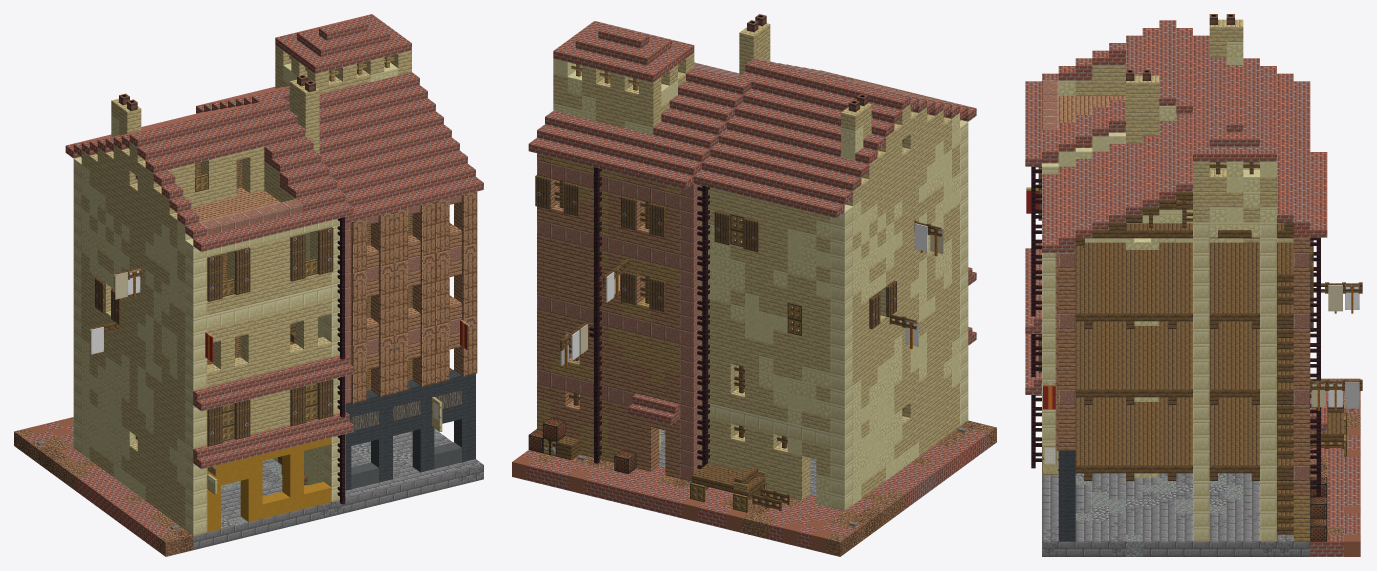
The model's file is nha-07.fbx.
The picture shows the model from 3 angles, left to right: view 1: azimuth 30°, elevation 25°; view 2: azimuth 150°, elevation 25°; view 3: azimuth 270°, elevation 25°; orthographic projection. The views are drawn at different scales.
Parts seen in each view (by area): view 1: nha-07; view 2: nha-07; view 3: nha-07.
Part boxes in pixels (bbox=[...]): nha-07: bbox=[14, 14, 483, 556]; nha-07: bbox=[512, 14, 996, 556]; nha-07: bbox=[1025, 14, 1362, 556].
Bounding box in the file's own units: 2300 × 2750 × 2013.
Materials: 1 (1 with a texture image).
